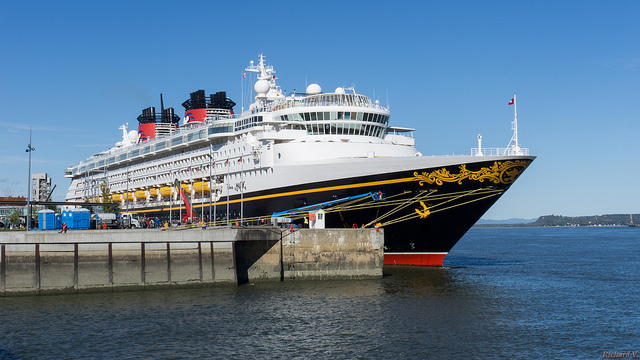cruise_ship: (59, 58, 526, 227)
